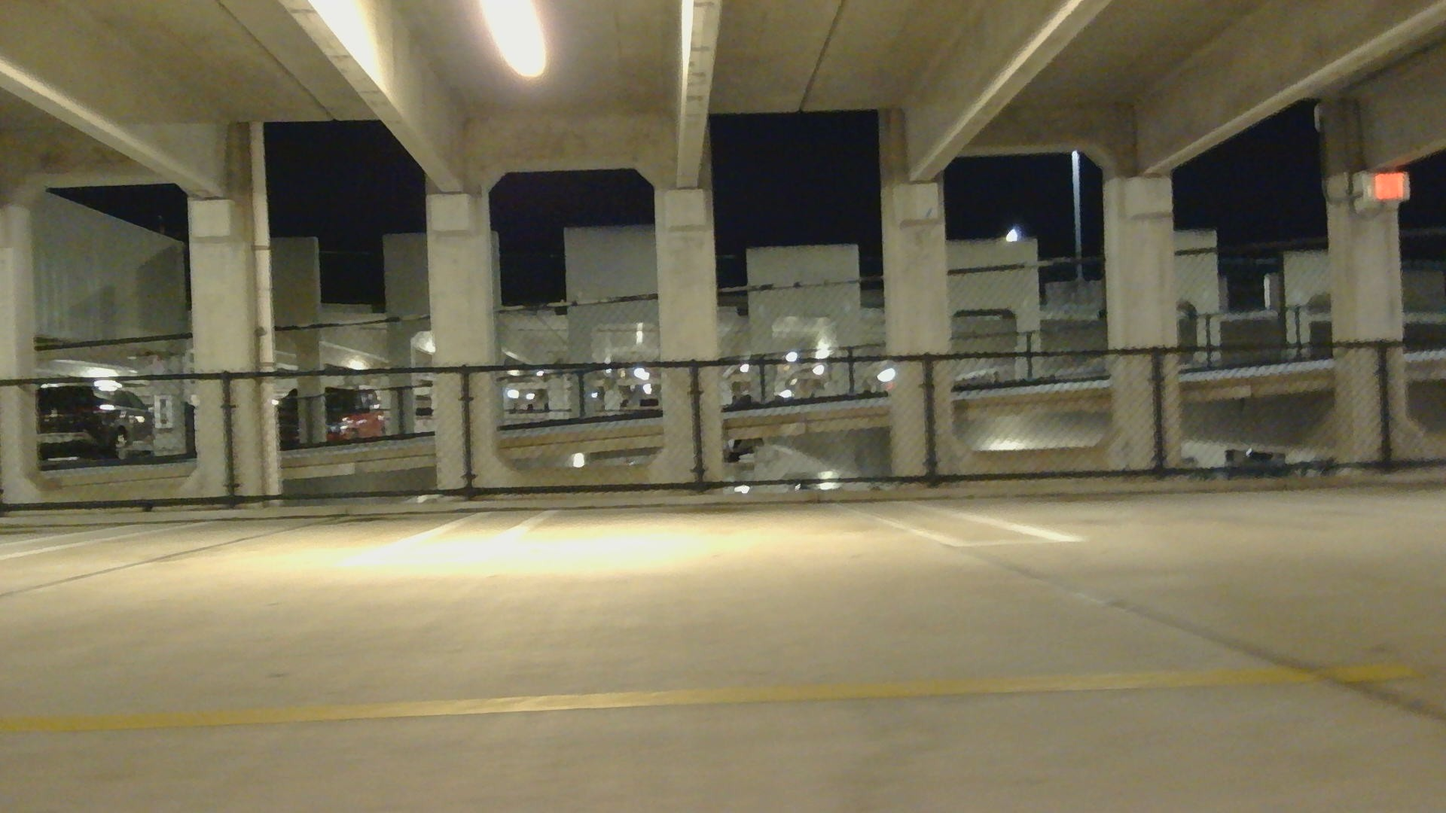empty_spot: (910, 396, 1416, 542), (4, 414, 489, 565), (477, 428, 949, 563)
